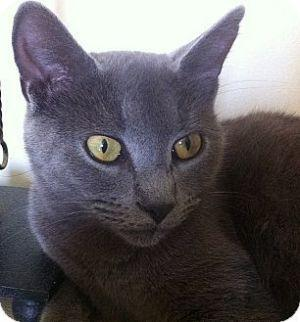rblue: (4, 1, 254, 261)
